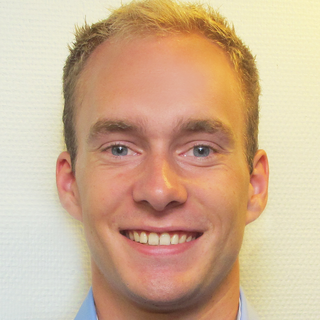eye: (98, 138, 144, 163), (177, 139, 223, 164)
